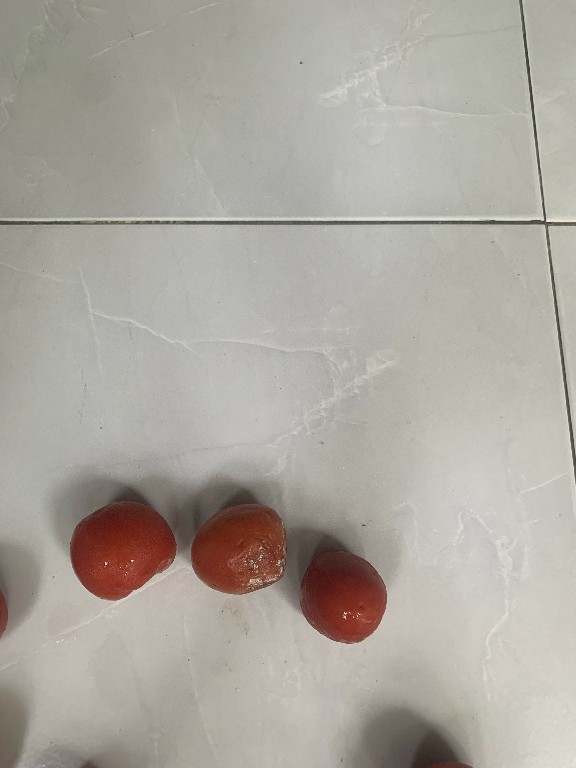NG: (190, 494, 284, 594)
OK: (58, 495, 182, 603), (292, 538, 392, 650)
